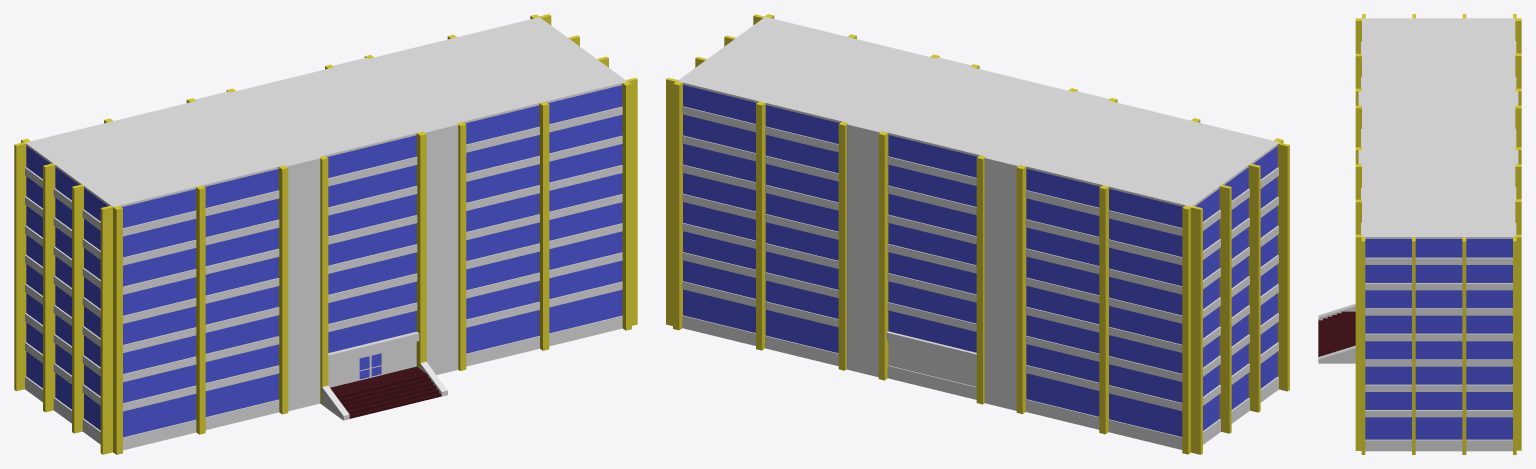
The model's file is building31.fbx.
3 renders of one model, left to right at view 1: azimuth 30°, elevation 25°; view 2: azimuth 150°, elevation 25°; view 3: azimuth 270°, elevation 25°, orthographic. The views are drawn at different scales.
Visible parts, largest first — view 1: building20; view 2: building20; view 3: building20.
Boxes of the visible parts, left/top/right/bottom form: building20: left=14, top=14, right=637, bottom=454; building20: left=666, top=14, right=1289, bottom=454; building20: left=1318, top=14, right=1521, bottom=454.
Size of the model in its own units: 5761 by 2524 by 2174.
